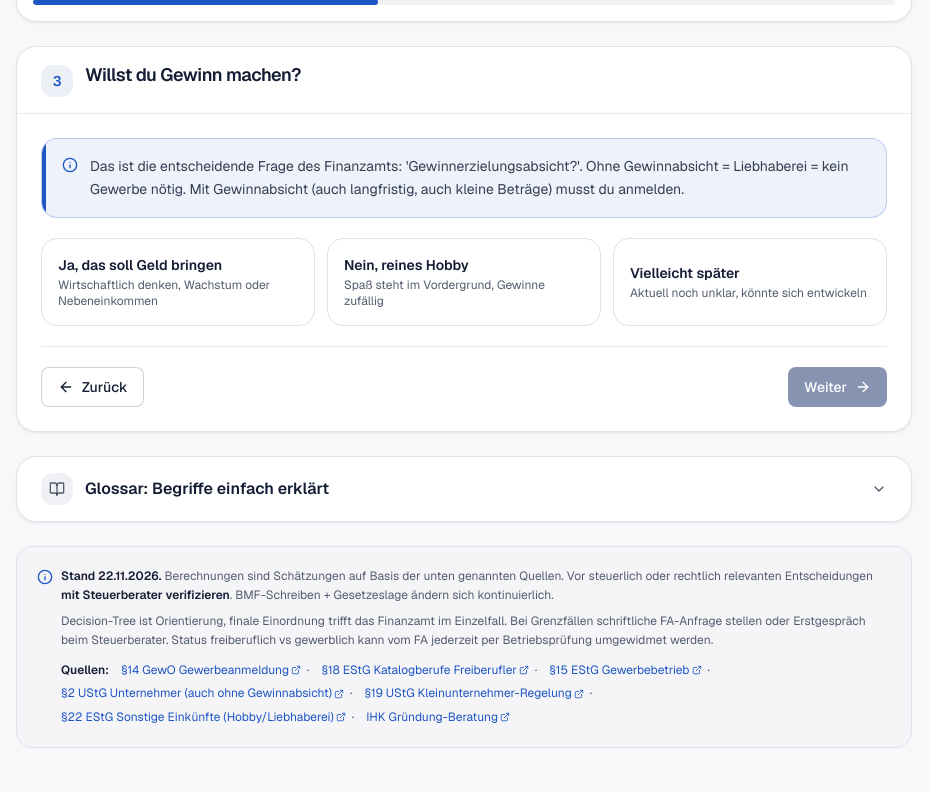
it: GewerbeCheck — Decision-Tree (verschiedene Pfade) › Pfad: Software-Dev ist Einzelfall (kein Katalogberuf) → 'Status nicht eindeutig'
This screenshot has width=929, height=792.
Earlier steps of the test are not shown.
(page scrolled)
Click the text "Ja, das soll Geld bringen" at x=140, y=265, box [58,256,222,274]
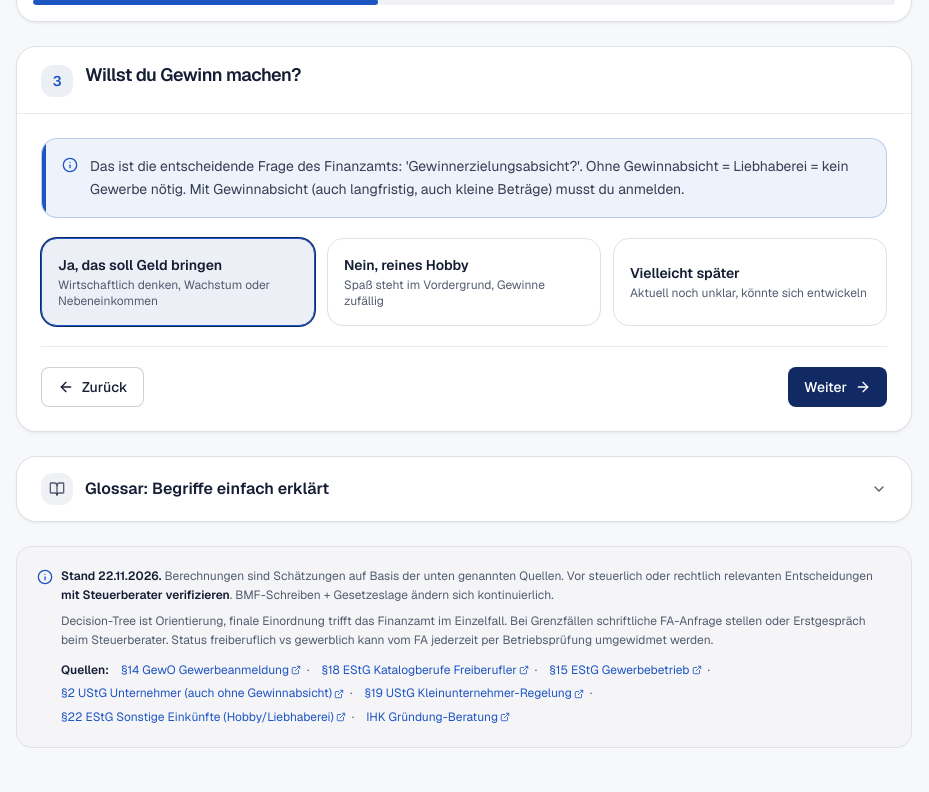
Click the button "Weiter" at x=838, y=387, box [788,367,887,407]
(page scrolled)
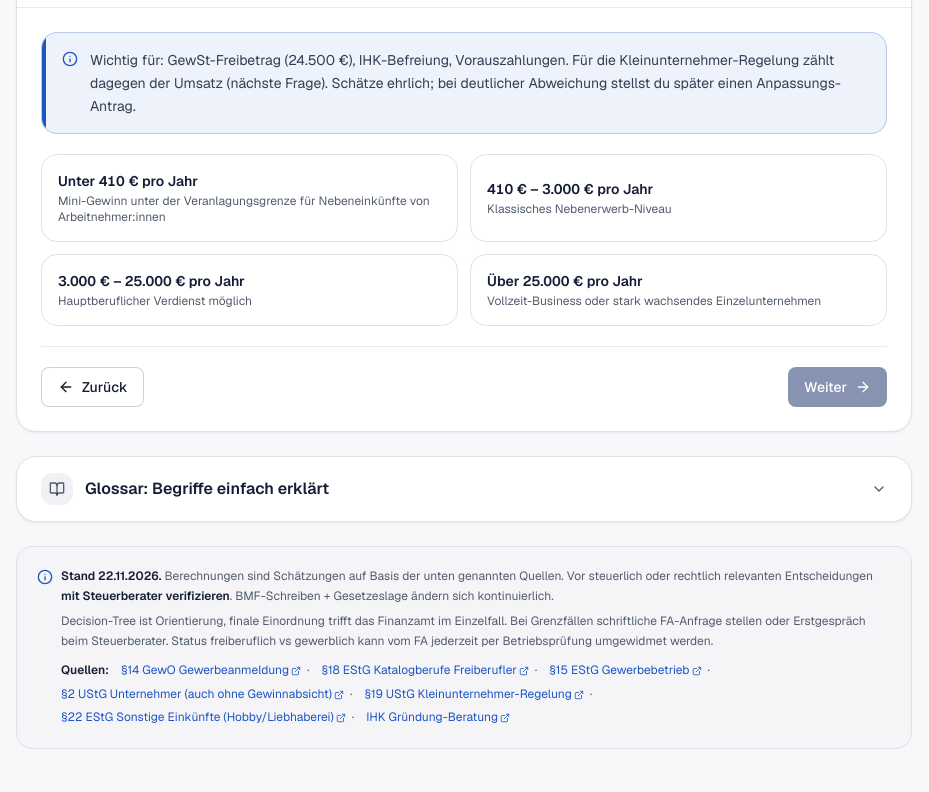
Click the text "Über 25.000 € pro Jahr" at x=565, y=282, box [487,272,643,290]
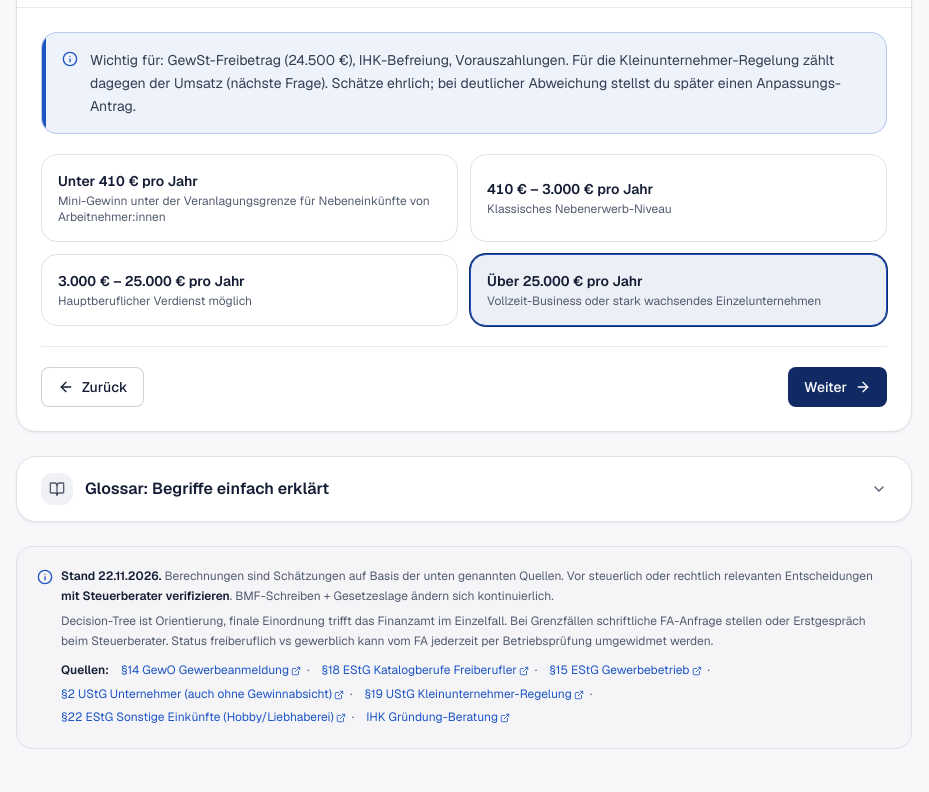
Click the button "Weiter" at x=838, y=388, box [788,368,887,408]
(page scrolled)
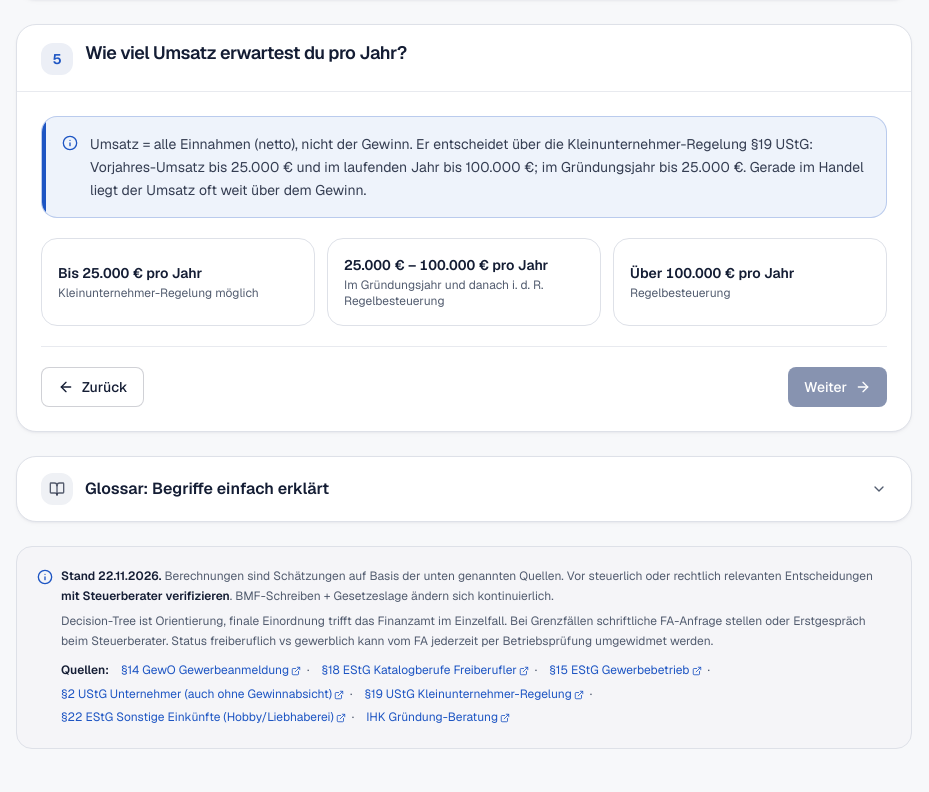
Click the text "Bis 25.000 € pro Jahr" at x=130, y=274, box [58,264,202,282]
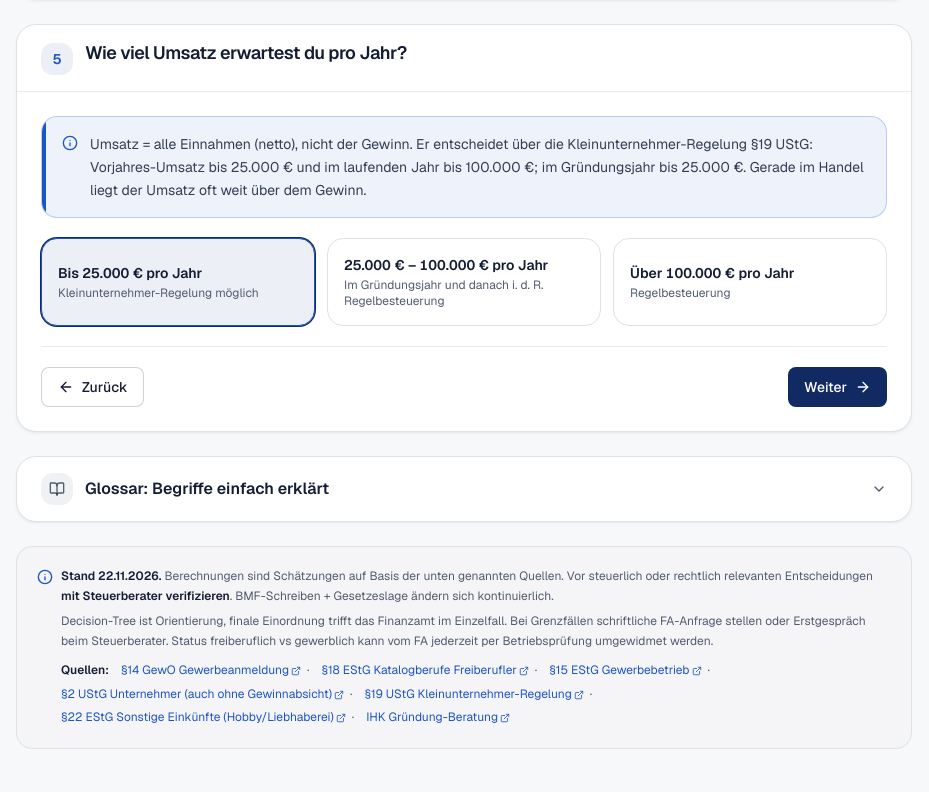
Click the button "Weiter" at x=838, y=388, box [788,368,887,408]
(page scrolled)
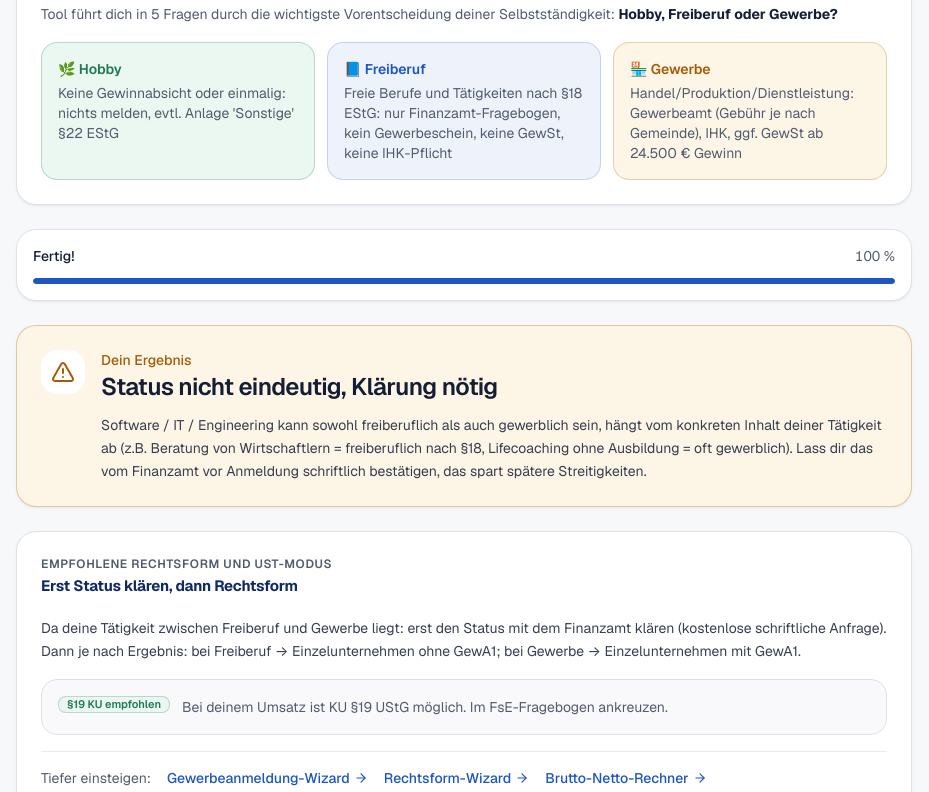
Expected: the heading "Status nicht eindeutig, Klärung nötig" is shown, [101,371,498,402]
